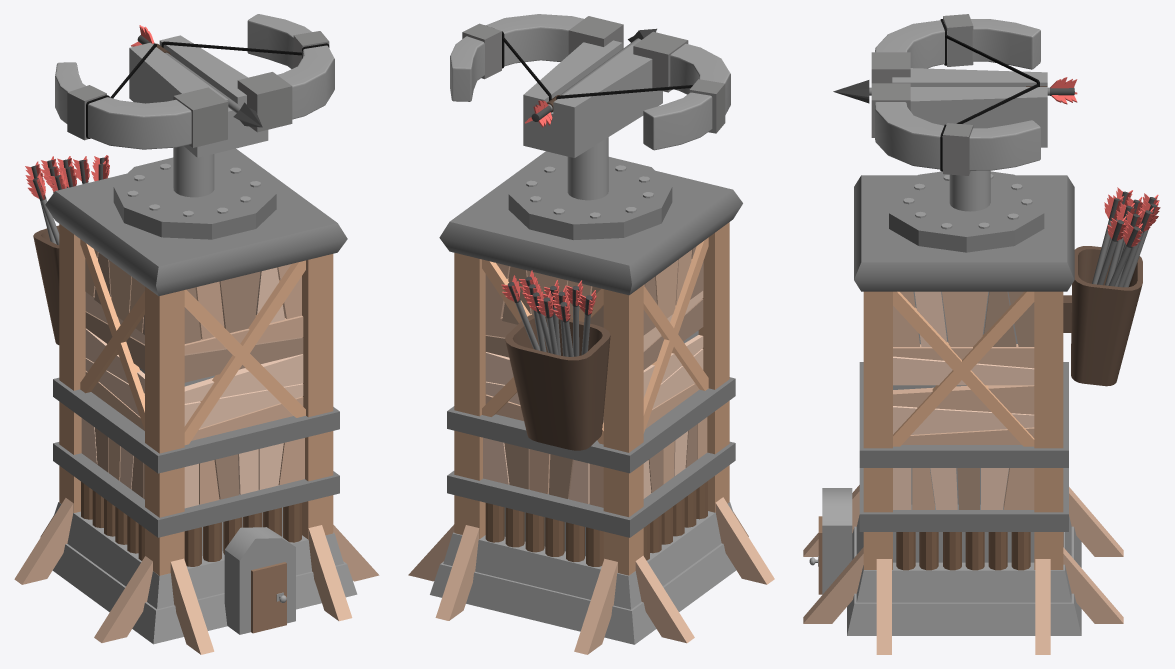
The model's file is CrossbowTower_2.fbx.
3 views of the same model, side by side, from view 1: azimuth 30°, elevation 25°; view 2: azimuth 150°, elevation 25°; view 3: azimuth 270°, elevation 25° (orthographic).
Visible parts, largest first — view 1: pCube100, polySurface17, pCylinder38; view 2: pCube100, polySurface17, pCylinder38; view 3: pCube100, polySurface17, pCylinder38.
Boxes of the visible parts, x1,y1,x2,y2 form: pCube100: (14,148,379,654); polySurface17: (55,14,334,197); pCylinder38: (113,157,276,239); pCube100: (408,151,774,654); polySurface17: (450,14,730,200); pCylinder38: (508,157,672,240); pCube100: (803,175,1160,654); polySurface17: (833,14,1077,211); pCylinder38: (889,171,1044,252).
Size of the model in its own units: 1.45 by 2.56 by 1.62.
